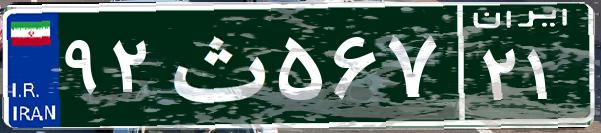1: (525, 38, 570, 115)
2: (475, 38, 525, 113), (110, 28, 158, 105)
5: (273, 28, 330, 110)
6: (330, 28, 385, 110)
7: (385, 28, 445, 110)
9: (57, 26, 110, 107)
ث: (158, 15, 273, 115)
